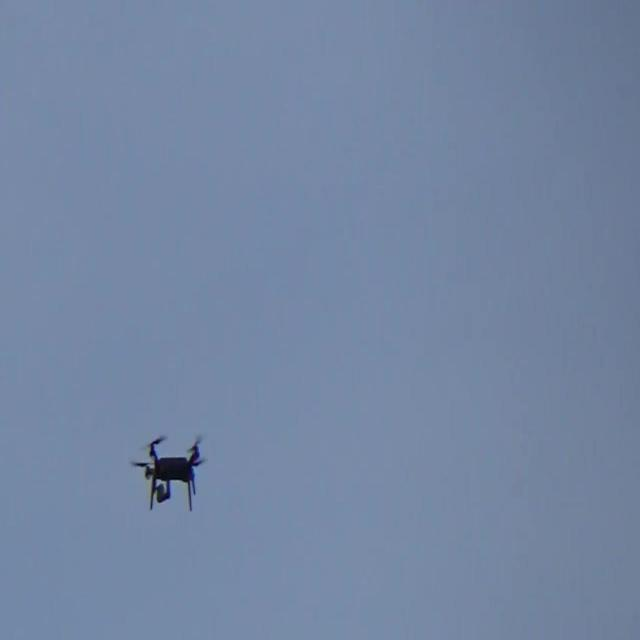UAV: (130, 435, 208, 513)
